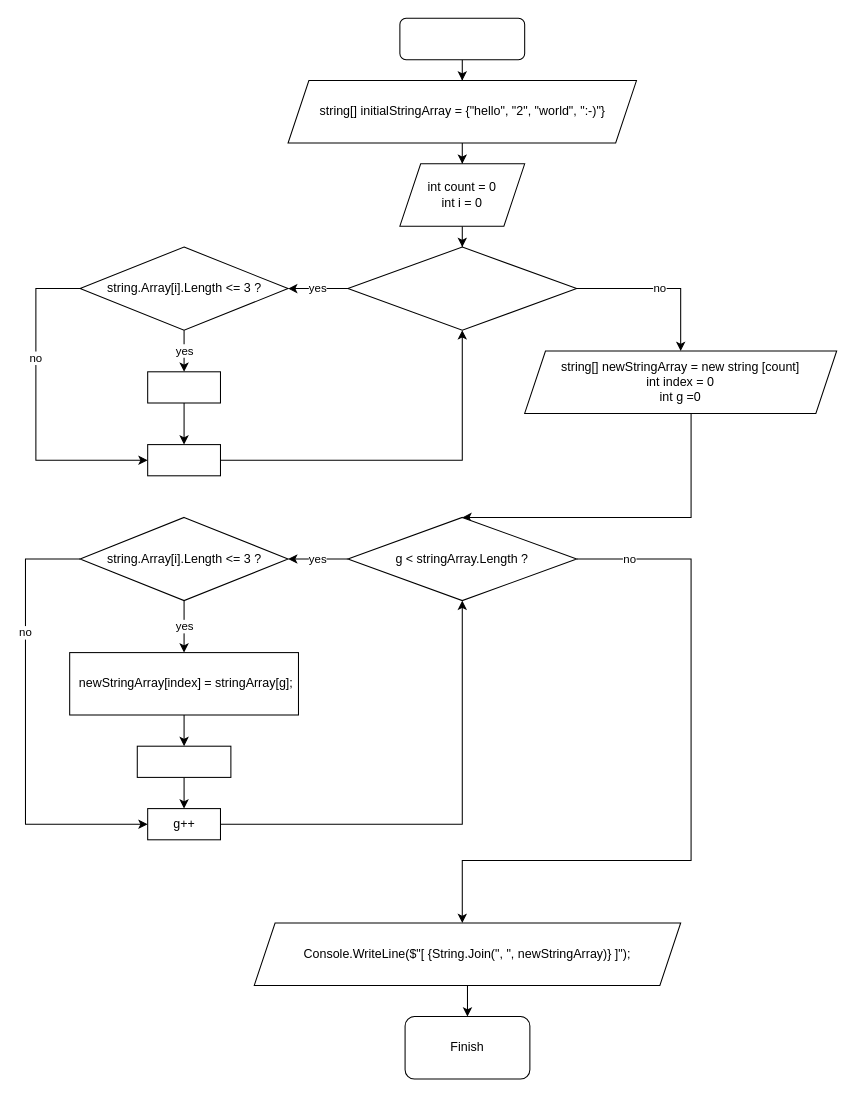
This 855x1097 diagram has some shape labels left out. Here are the shapes that lost their labels. From the top down, the centre of each, then its label:
At (462,38): "Start".
At (462,288): "i < stringArray.Length ?".
At (183,387): "count++".
At (183,460): "i++".
At (183,761): "index++".
